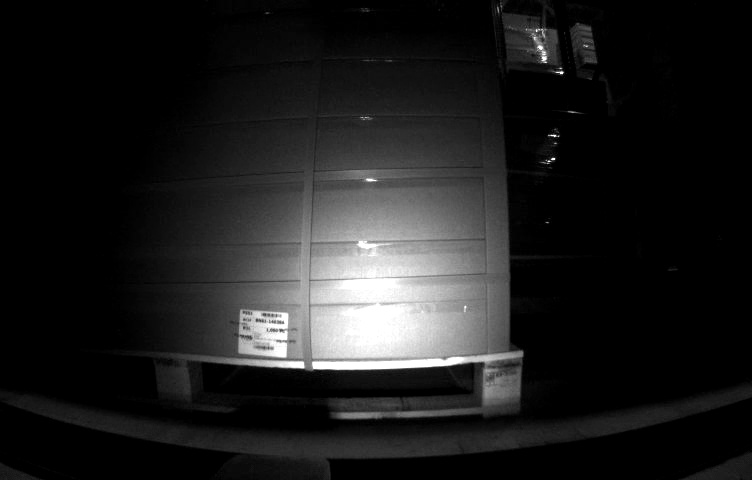True Barcode: (239, 306, 288, 355)
